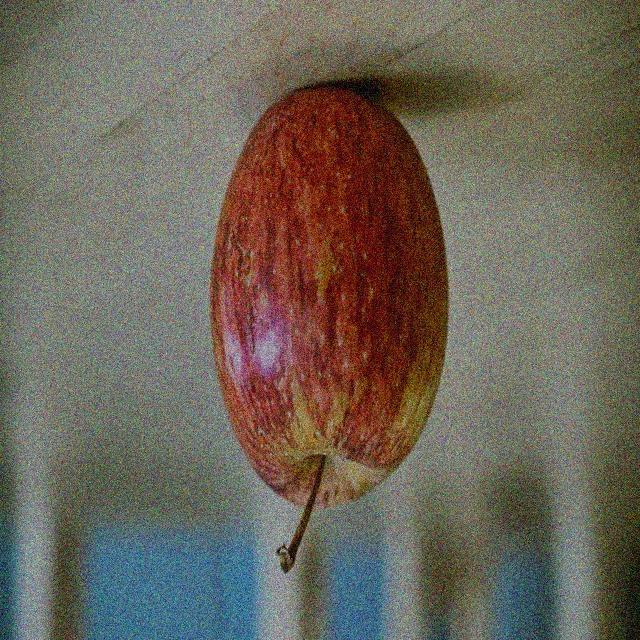red apple: (206, 87, 447, 514)
